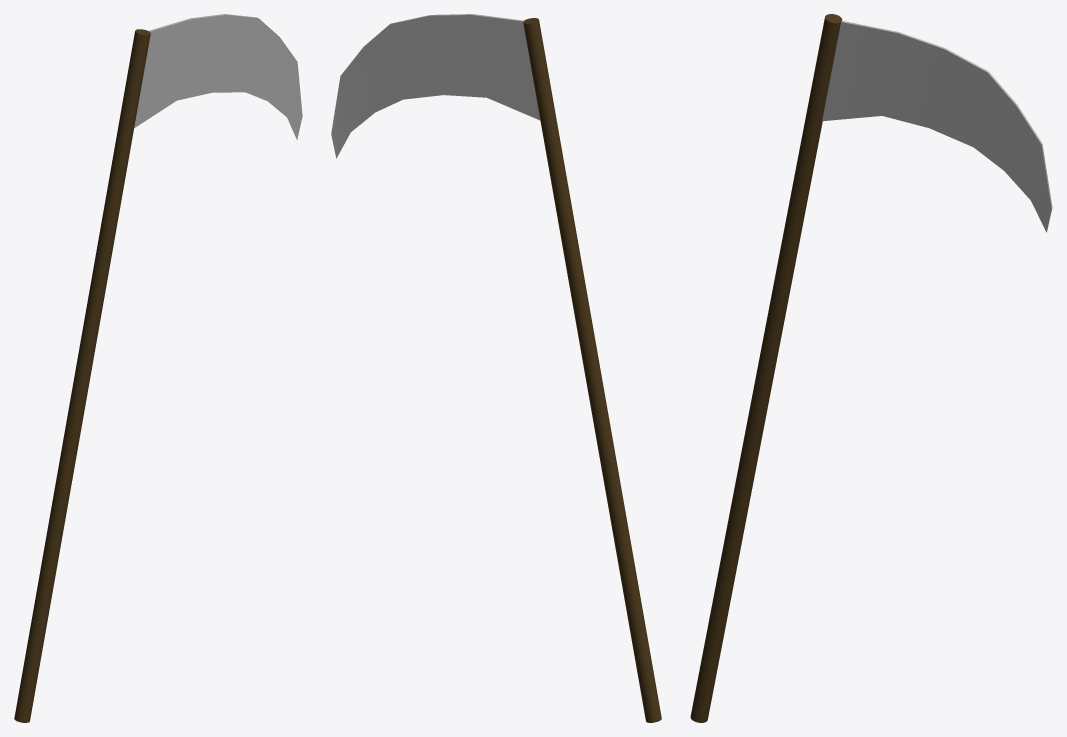
Rendered from Scythe.fbx.
3 renders of one model, left to right at view 1: azimuth 30°, elevation 25°; view 2: azimuth 150°, elevation 25°; view 3: azimuth 330°, elevation 25°, orthographic. The views are drawn at different scales.
Parts seen in each view (by area): view 1: pCylinder1; view 2: pCylinder1; view 3: pCylinder1.
Boxes of the visible parts, <box> form: pCylinder1: <box>14,14,302,722</box>; pCylinder1: <box>331,14,661,722</box>; pCylinder1: <box>690,14,1052,722</box>.
Bounding box in the file's own units: 72.04 × 149 × 9.51.
